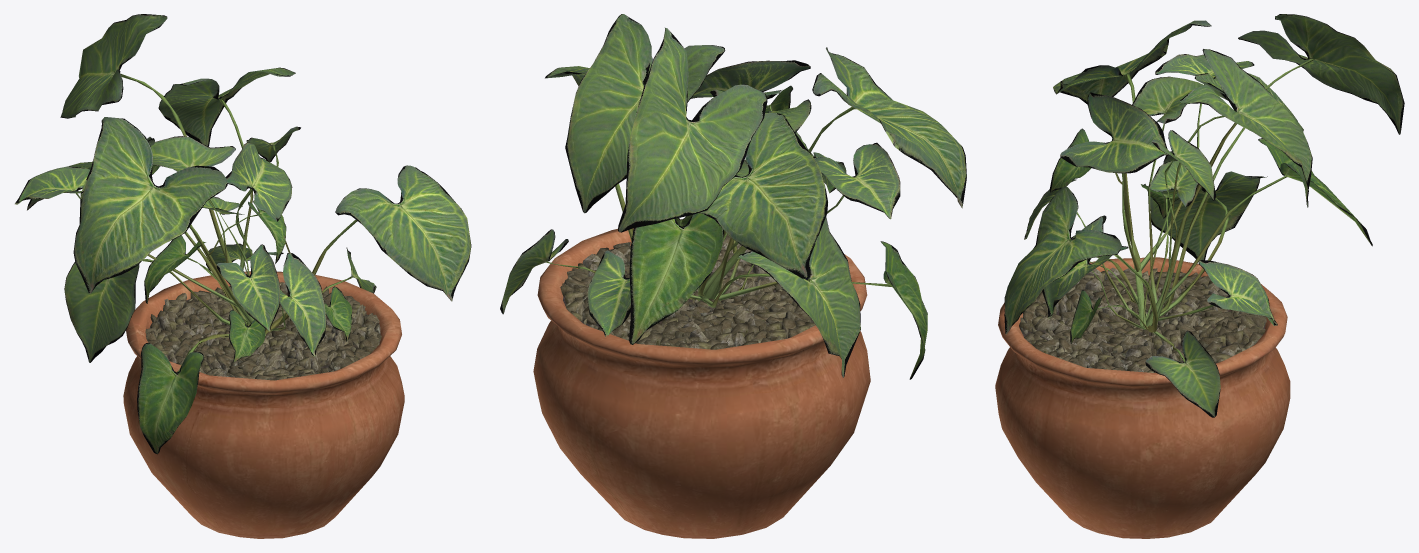
File: greenery.plant-floor-a.glb
3 views of the same model, side by side, from view 1: azimuth 30°, elevation 25°; view 2: azimuth 150°, elevation 25°; view 3: azimuth 270°, elevation 25° (orthographic). The views are drawn at different scales.
Visible parts, largest first — view 1: greenery_plant_floor_a; view 2: greenery_plant_floor_a; view 3: greenery_plant_floor_a.
Part boxes in pixels (<box>): greenery_plant_floor_a: <box>15,14,471,538</box>; greenery_plant_floor_a: <box>500,14,966,538</box>; greenery_plant_floor_a: <box>995,14,1404,538</box>.
Bounding box in the file's own units: 0.7009 × 0.8415 × 0.6576.
Materials: 2 (2 with a texture image).
